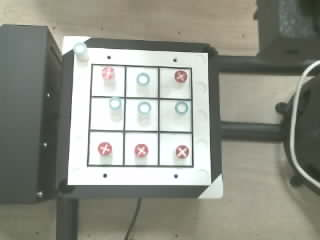blue circle: (73, 42, 86, 55), (175, 101, 188, 114), (136, 73, 149, 85), (138, 102, 151, 114), (109, 97, 121, 109)
board: (67, 48, 213, 185)
cells: (89, 132, 122, 165), (125, 133, 157, 165), (91, 98, 123, 130), (125, 99, 157, 130), (92, 65, 124, 96), (160, 133, 191, 165), (160, 100, 191, 131), (126, 67, 157, 97), (175, 71, 186, 82)
grid: (87, 64, 193, 167)
red cross: (135, 144, 148, 157), (98, 142, 111, 155), (176, 145, 188, 158), (175, 70, 187, 82), (102, 67, 114, 79)
